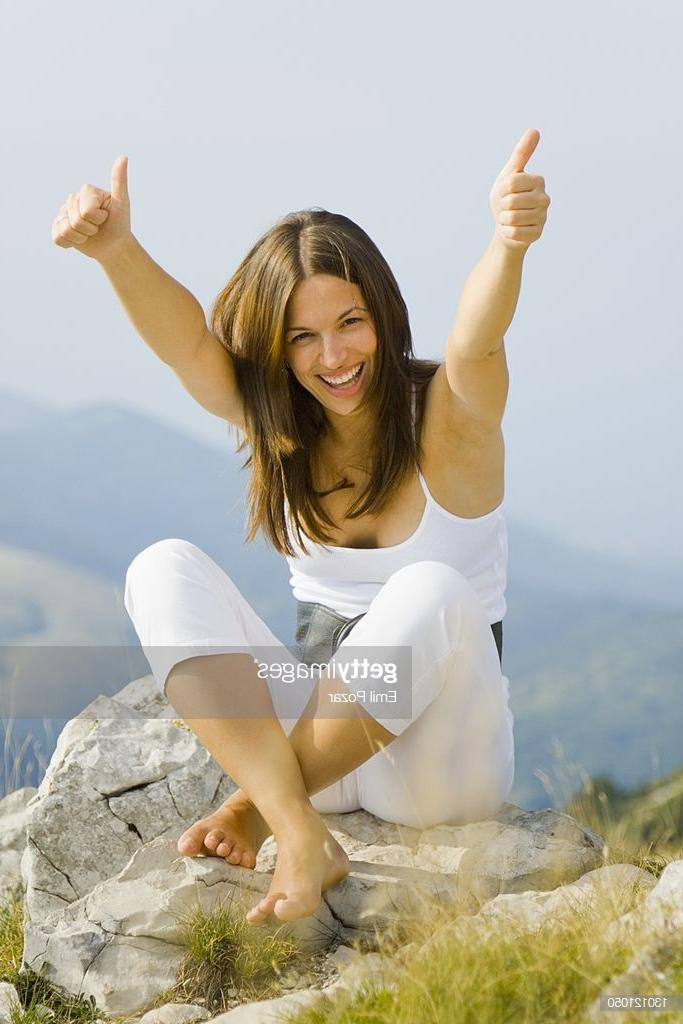thumbsup: (50, 155, 130, 249), (496, 128, 551, 243)
